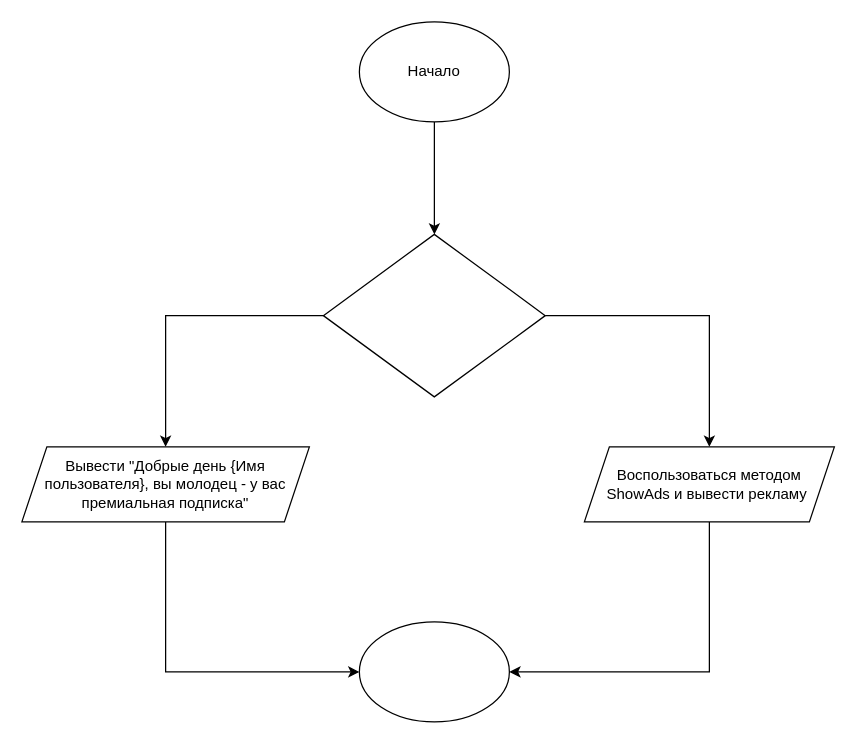
Image size: 856x744. Some labels were removed from this diagram. Each missing label, with the centre of its shape:
Для каждого пользователя проверить наличие премиальной подписки: (x=433, y=315)
Конец: (x=433, y=671)
